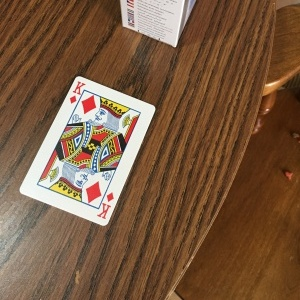card: (17, 76, 157, 224)
